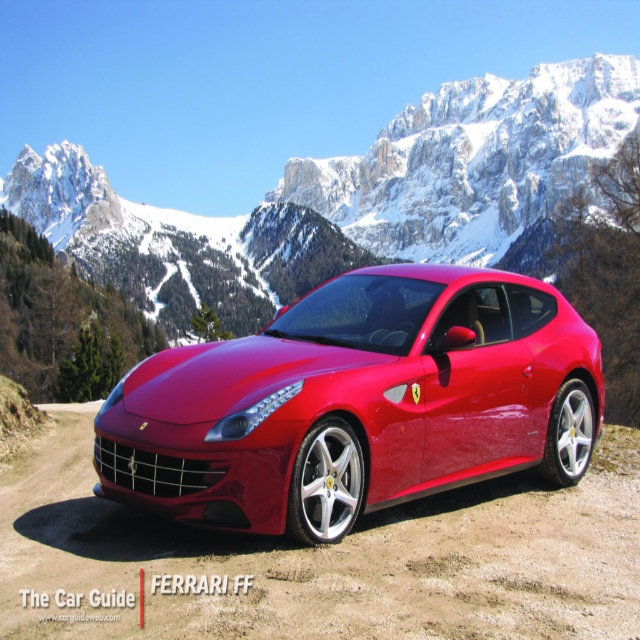Car: (93, 262, 604, 543)
